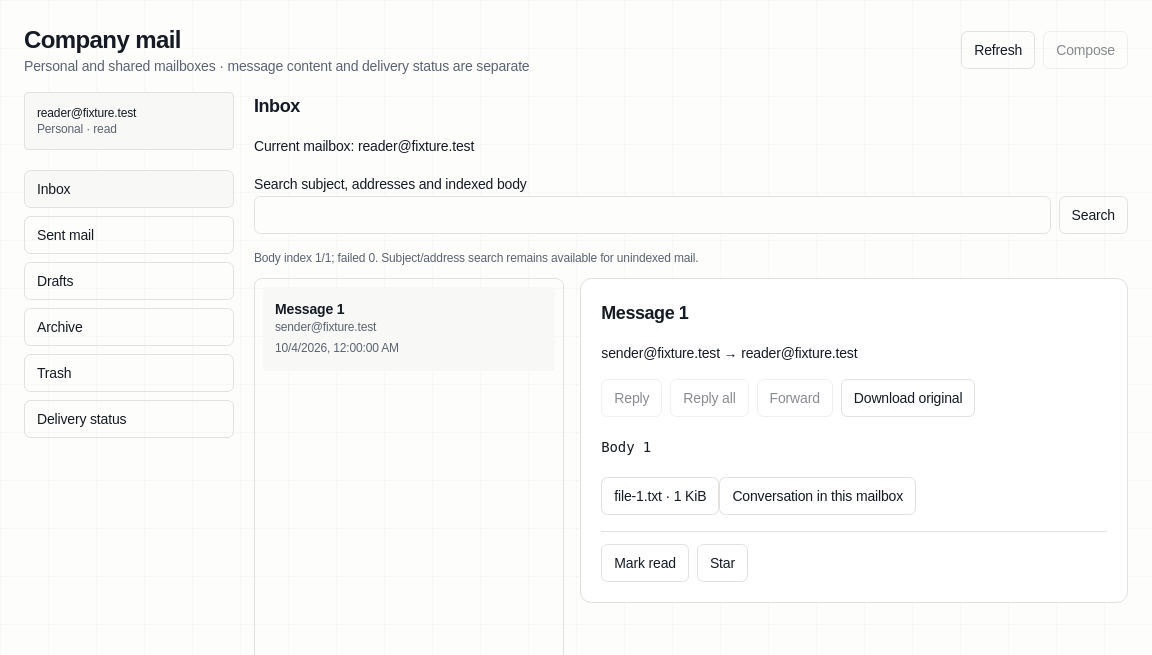
mail workspace visible-read invalidation › invalidates only current-session owned reads and ignores ping frames
expect the text "Body 1" is shown: met, box [601, 439, 651, 455]
Click the button "Conversation in this mailbox" at (818, 496), box [719, 477, 916, 515]
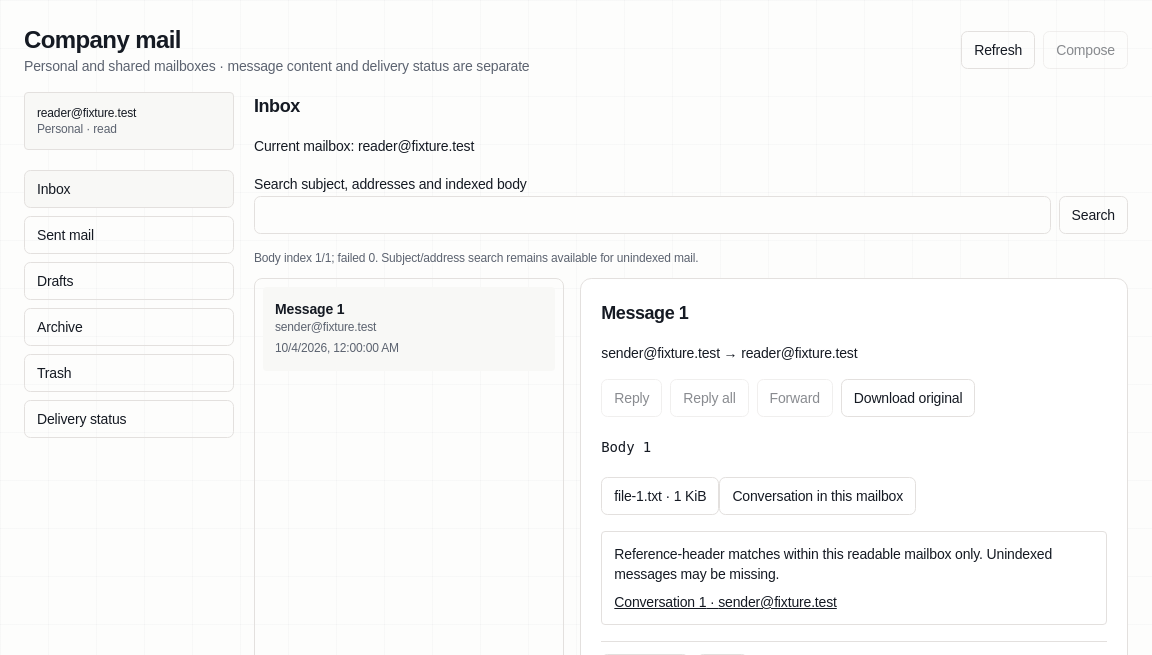
expect the button "file-1.txt · 1 KiB" is shown: met, box [601, 477, 719, 515]
expect the link "Conversation 1 · sender@fixture.test" is shown: met, box [614, 594, 837, 610]
